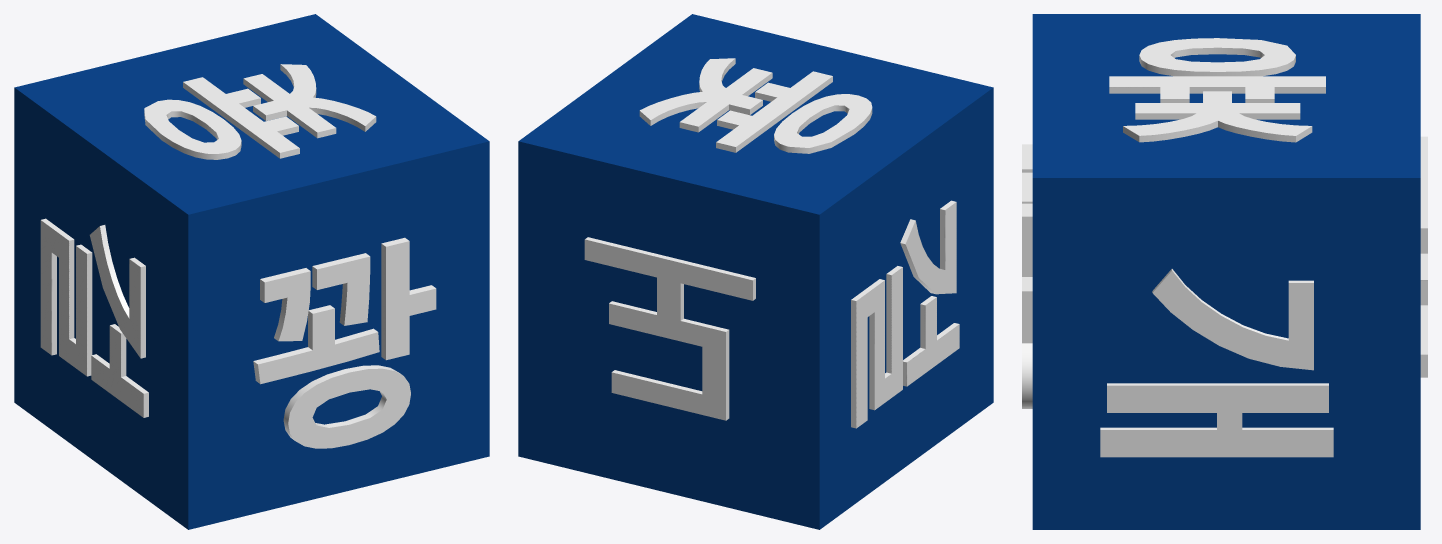
Rendered from navy - 복사본.glb.
The picture shows the model from 3 angles, left to right: view 1: azimuth 30°, elevation 25°; view 2: azimuth 150°, elevation 25°; view 3: azimuth 270°, elevation 25°; orthographic projection. The views are drawn at different scales.
Parts seen in each view (by area): view 1: mesh_id40, mesh_id150, mesh_id127, mesh_id134; view 2: mesh_id40, mesh_id88, mesh_id127, mesh_id134; view 3: mesh_id40, mesh_id99, mesh_id134, mesh_id150, mesh_id88.
Part boxes in pixels (x1=…): mesh_id40: x1=14, y1=14, x2=489, y2=529; mesh_id150: x1=253, y1=237, x2=436, y2=448; mesh_id127: x1=40, y1=218, x2=148, y2=417; mesh_id134: x1=144, y1=64, x2=376, y2=159; mesh_id40: x1=518, y1=14, x2=993, y2=529; mesh_id88: x1=584, y1=237, x2=755, y2=420; mesh_id127: x1=851, y1=200, x2=959, y2=428; mesh_id134: x1=639, y1=58, x2=872, y2=153; mesh_id40: x1=1032, y1=14, x2=1420, y2=529; mesh_id99: x1=1100, y1=269, x2=1333, y2=457; mesh_id134: x1=1109, y1=38, x2=1325, y2=142; mesh_id150: x1=1022, y1=144, x2=1032, y2=408; mesh_id88: x1=1420, y1=136, x2=1427, y2=377.
Bounding box in the file's own units: 0.2062 × 0.2078 × 0.209.
Materials: 7 (7 with a texture image).
